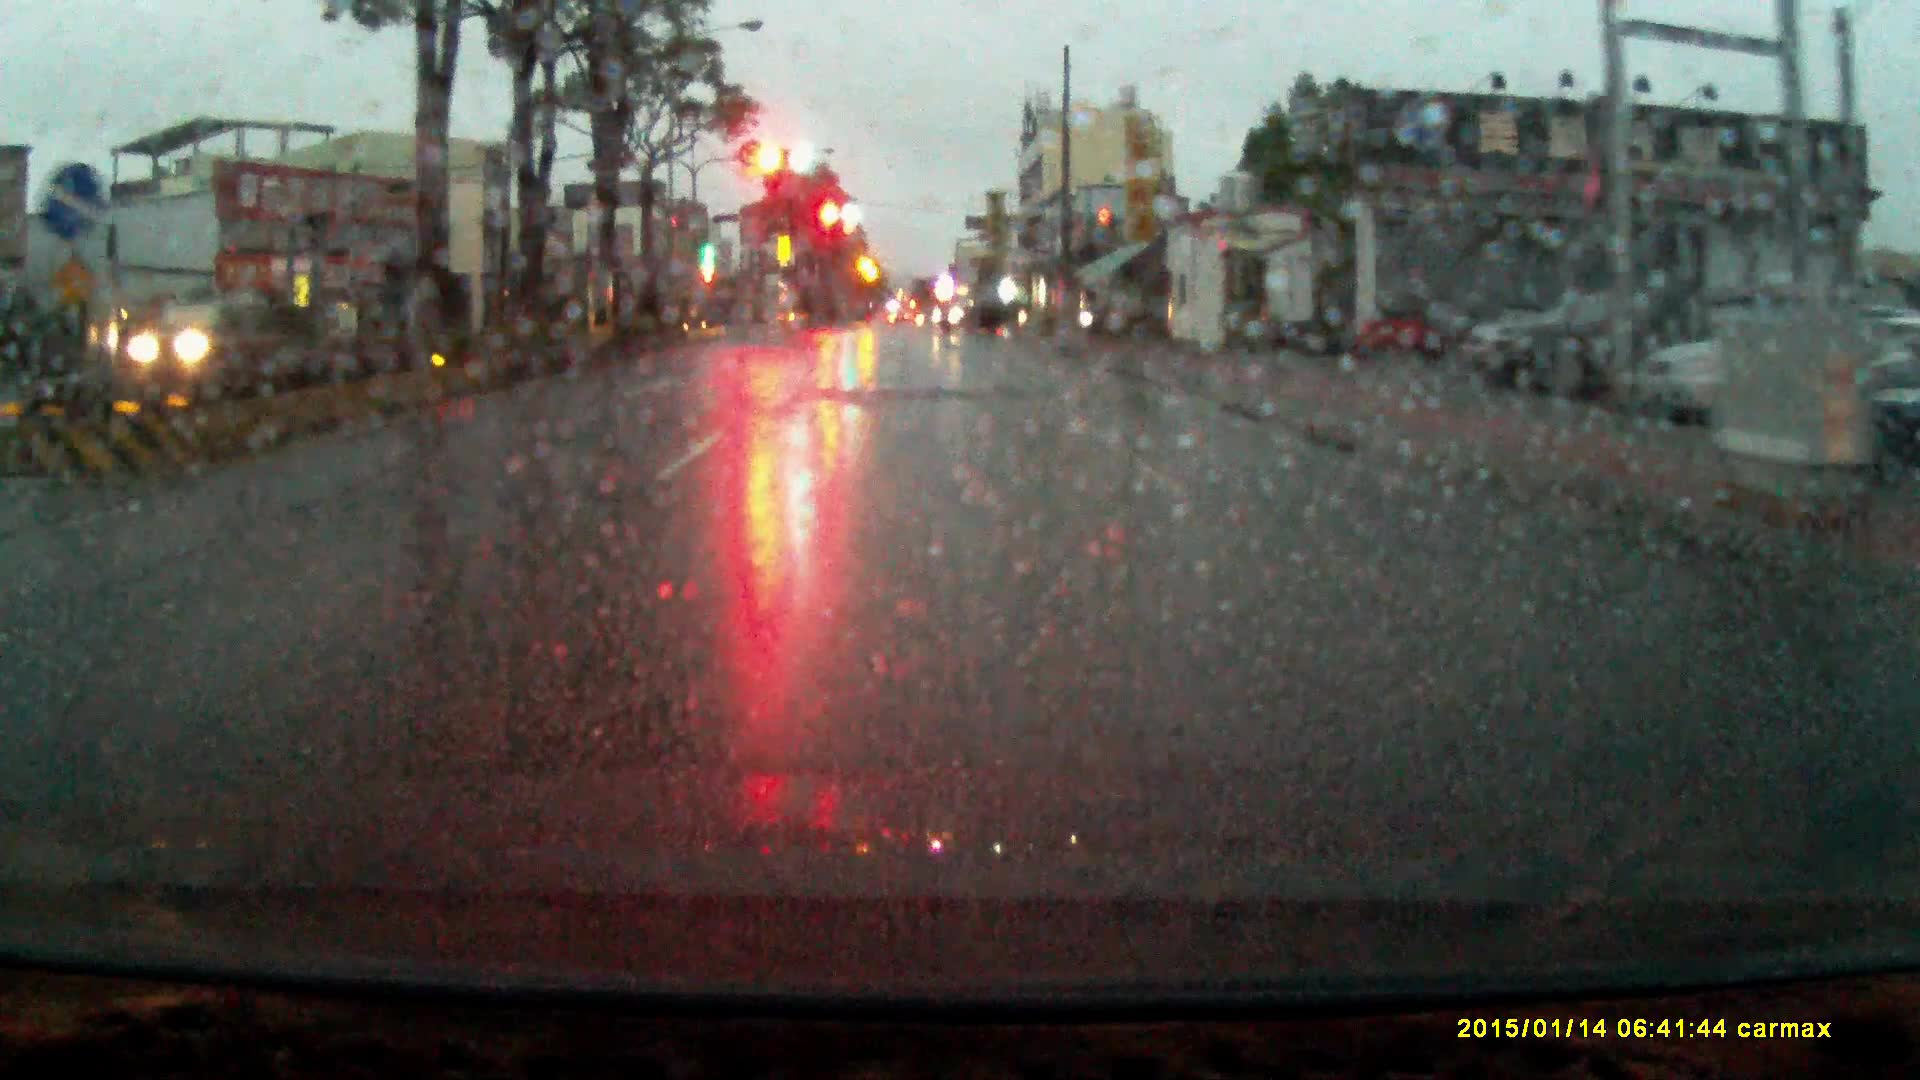vehicle: (1477, 287, 1741, 407), (128, 295, 256, 372), (934, 290, 1021, 338)
